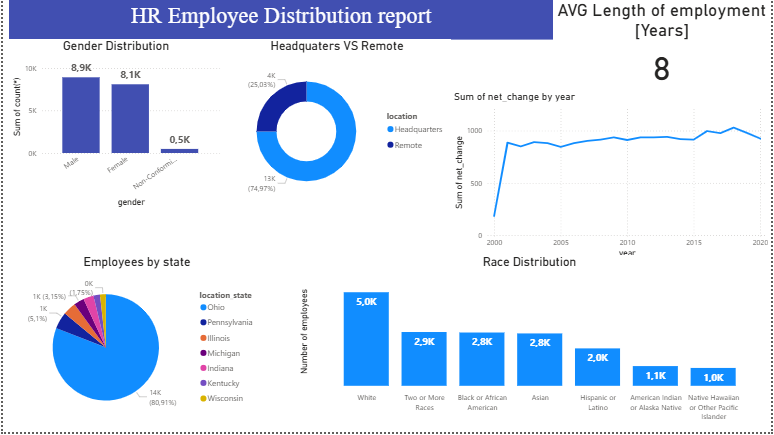

This screenshot's page, from the dashboard's own definition file:
{"tool":"powerbi","page":{"name":"Page 1","canvas":[1280,720],"ordinal":0},"visuals":[{"type":"textbox","box":[10,0,907.1,65.7],"z":0},{"type":"card","title":"AVG Length of employment [Years]","fields":{"Values":["Sum(avg_length_employment.avg_length_employment)"]},"box":[917.1,0,362.9,150],"z":1000},{"type":"columnChart","title":"Gender Distribution ","fields":{"Y":["Sum(Gender.count(*))"],"Category":["Gender.gender"]},"box":[10,65,356.7,285],"z":1001},{"type":"donutChart","title":"Headquaters VS Remote","fields":{"Category":["location.location"],"Y":["Sum(location.count(*))"]},"box":[366.7,65,380,285],"z":1002},{"type":"lineChart","fields":{"Y":["Sum(employee_change.net_change)"],"Category":["employee_change.year"]},"box":[746.7,150,533.3,285],"z":1003},{"type":"pieChart","title":"Employees by state","fields":{"Y":["Sum(State.count)"],"Category":["State.location_state"]},"box":[10,425,426.7,285],"z":1004},{"type":"clusteredColumnChart","title":"Race Distribution","fields":{"Category":["Race.race"],"Y":["Sum(Race.count)"]},"box":[488.3,425,778.3,285],"z":1005}]}

Visuals, with their boxes in screenshot pixels (x1, y1, x2, y2), scaled from the page's 1280x720 canvas onto the 774x435 screenshot:
textbox: region(6, 0, 555, 40)
"AVG Length of employment [Years]" card: region(555, 0, 773, 91)
"Gender Distribution " columnChart: region(6, 39, 222, 211)
"Headquaters VS Remote" donutChart: region(222, 39, 452, 211)
lineChart - Sum(employee_change.net_change) x employee_change.year: region(452, 91, 773, 263)
"Employees by state" pieChart: region(6, 257, 264, 429)
"Race Distribution" clusteredColumnChart: region(295, 257, 766, 429)
